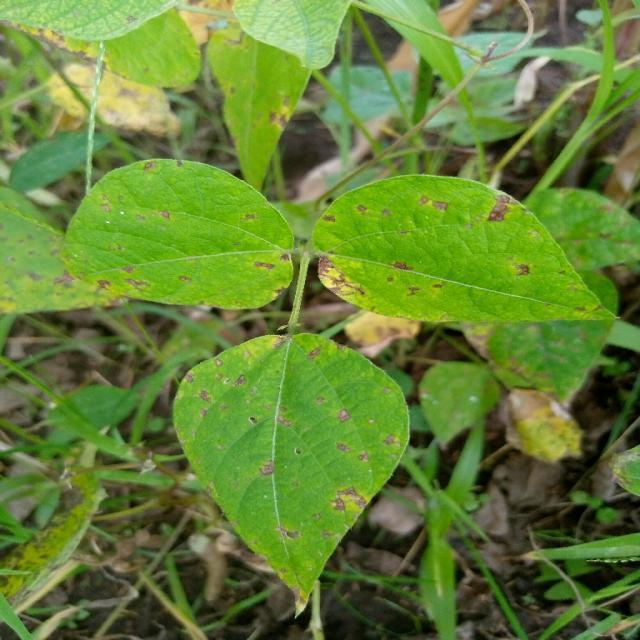hawar: (166, 330, 388, 564), (74, 165, 303, 304), (310, 196, 558, 316)
